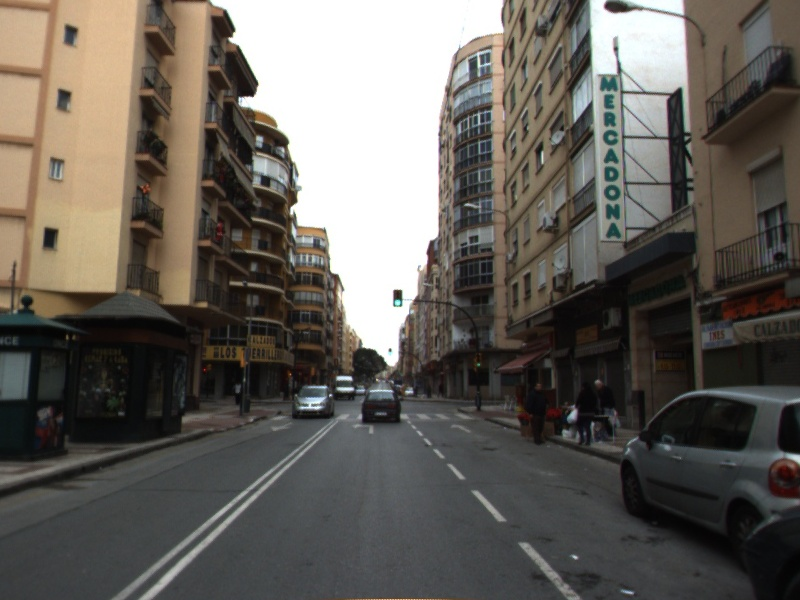LEFT: (351, 421, 375, 435)
STRAIGHT: (449, 422, 472, 434)
